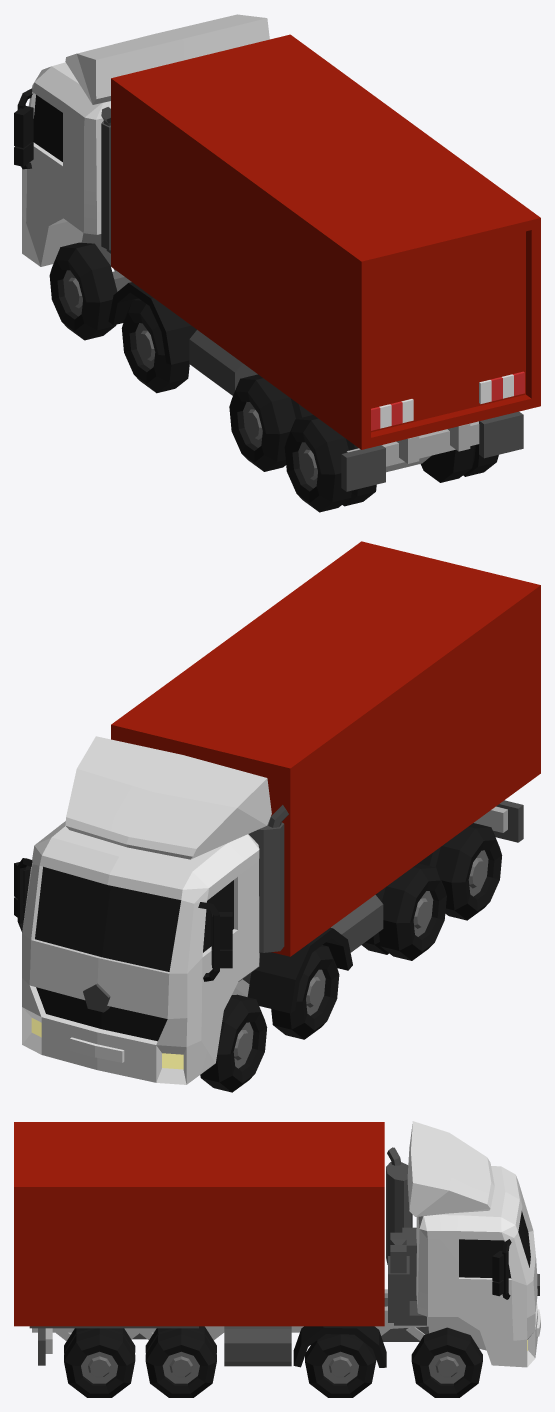
The model's file is truck.glb.
3 views of the same model, one above another, from view 1: azimuth 30°, elevation 25°; view 2: azimuth 150°, elevation 25°; view 3: azimuth 270°, elevation 25° (orthographic). The views are drawn at different scales.
Visible parts, largest first — view 1: TruckRed; view 2: TruckRed; view 3: TruckRed.
Part boxes in pixels (x1=…): TruckRed: x1=14, y1=14, x2=540, y2=512; TruckRed: x1=14, y1=541, x2=540, y2=1092; TruckRed: x1=14, y1=1121, x2=540, y2=1397.
Bounding box in the file's own units: 2.94 × 3.77 × 8.29.
5 materials, 5 textured.
